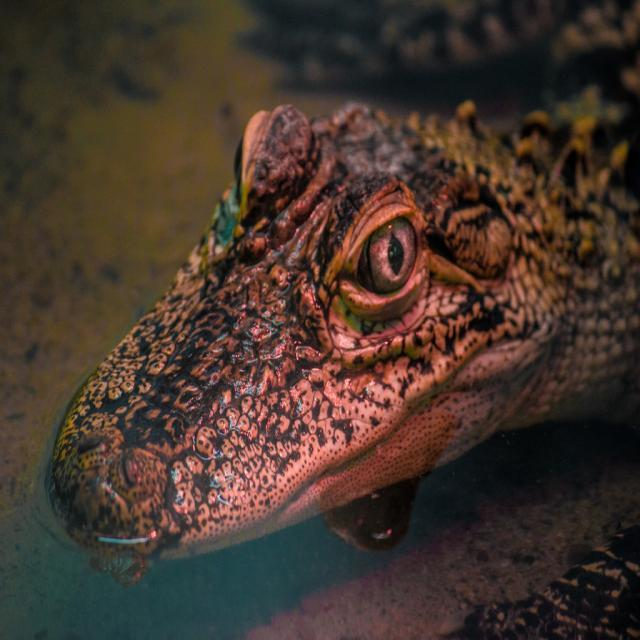crocodile: (2, 0, 639, 639)
